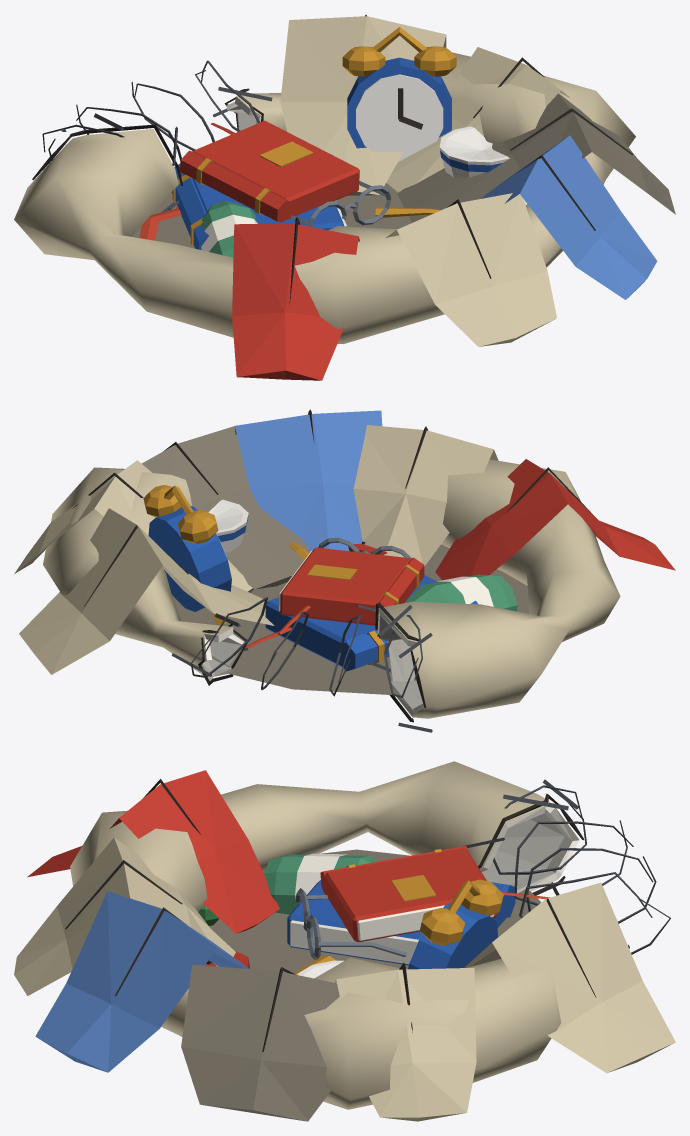
The model's file is HiddenStash.fbx.
The picture shows the model from 3 angles, top to bottom: view 1: azimuth 30°, elevation 25°; view 2: azimuth 150°, elevation 25°; view 3: azimuth 270°, elevation 25°; orthographic projection. The views are drawn at different scales.
Parts seen in each view (by area): view 1: Nest, Treasure, Lines; view 2: Nest, Treasure, Lines; view 3: Nest, Treasure, Lines.
Part boxes in pixels (x1=…): Nest: x1=14, y1=16, x2=675, y2=380; Treasure: x1=139, y1=27, x2=526, y2=257; Lines: x1=32, y1=14, x2=632, y2=304; Nest: x1=14, y1=410, x2=675, y2=718; Treasure: x1=143, y1=485, x2=517, y2=671; Lines: x1=72, y1=409, x2=592, y2=732; Nest: x1=14, y1=761, x2=675, y2=1121; Treasure: x1=198, y1=846, x2=549, y2=978; Lines: x1=65, y1=779, x2=670, y2=1051.
Bounding box in the file's own units: 1.02 × 0.2762 × 0.9615.
